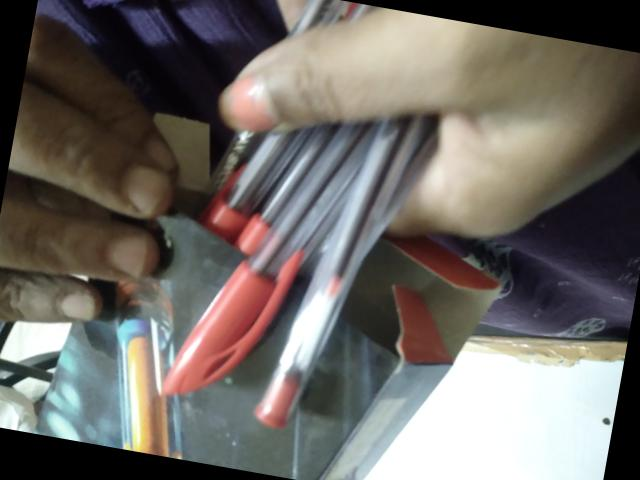PEN: (32, 134, 372, 419)
